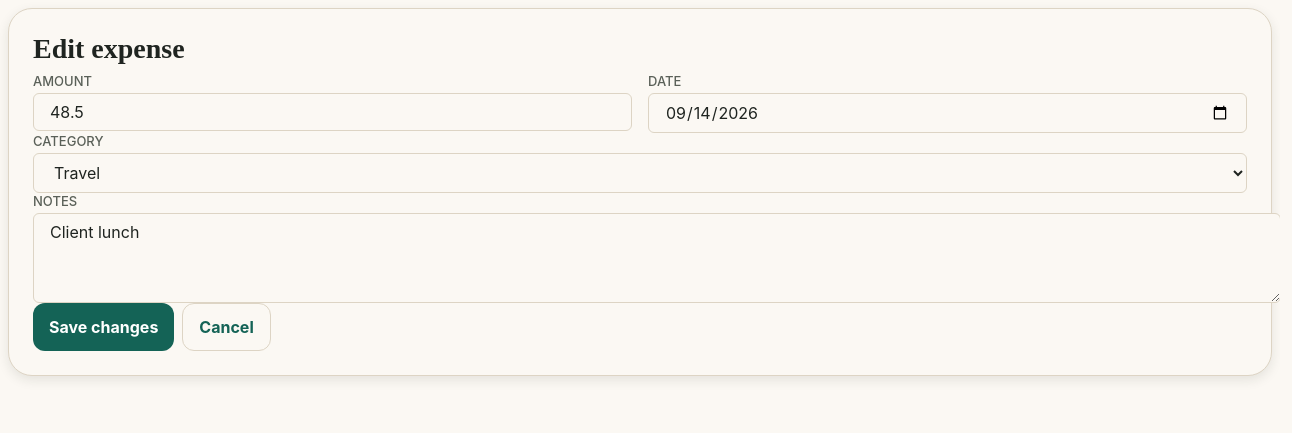
Test: EditExpenseForm › shows a validation error and does not save when amount is non-positive (AC4)
This screenshot has width=1292, height=433.
Replace the text in the field labelled "Amount" with "-10" at (332, 112), box [33,93,632,131]
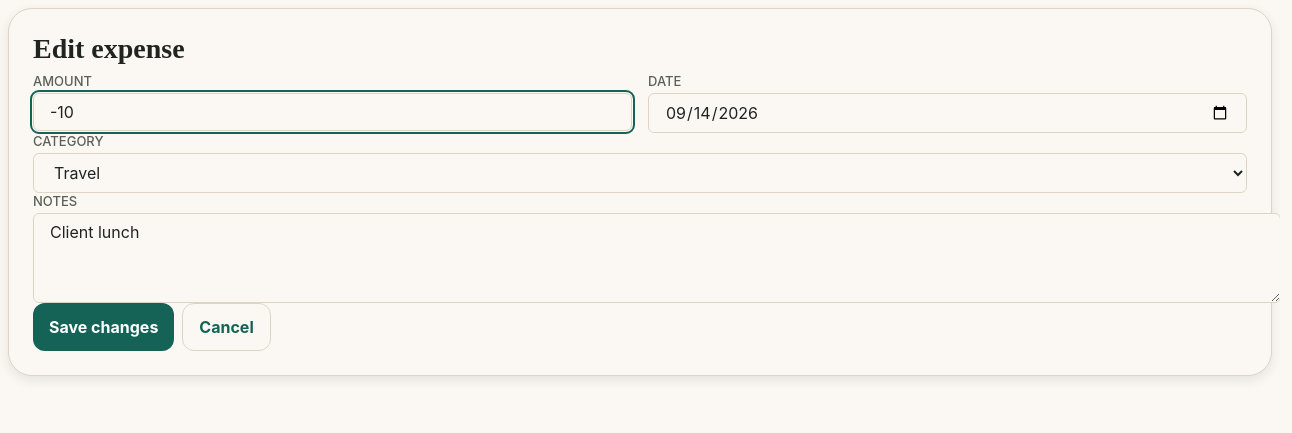
Click the button "Save changes" at (104, 327), box [33,303,174,351]
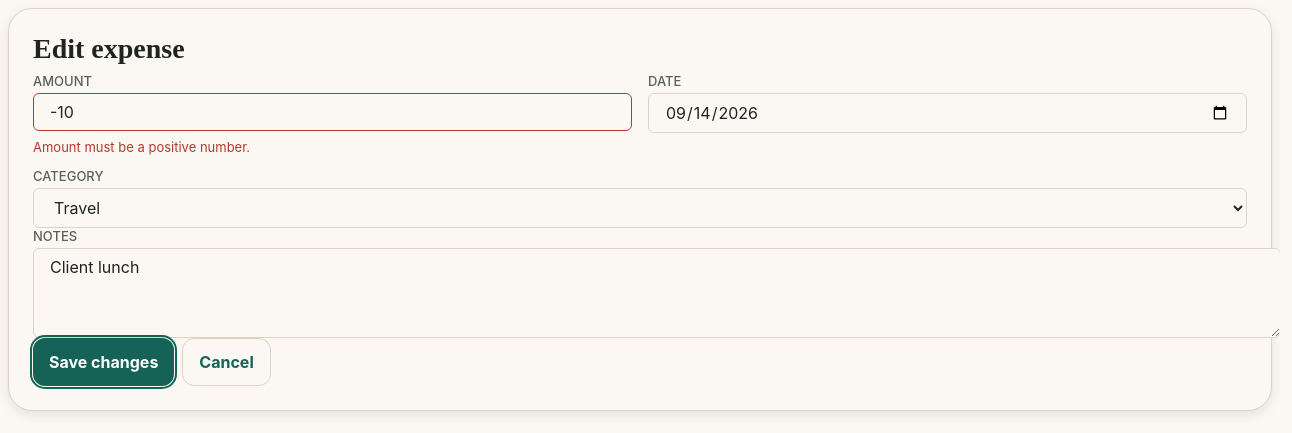
Expected: the text "Amount must be a positive number." is shown, [33,139,250,155]
